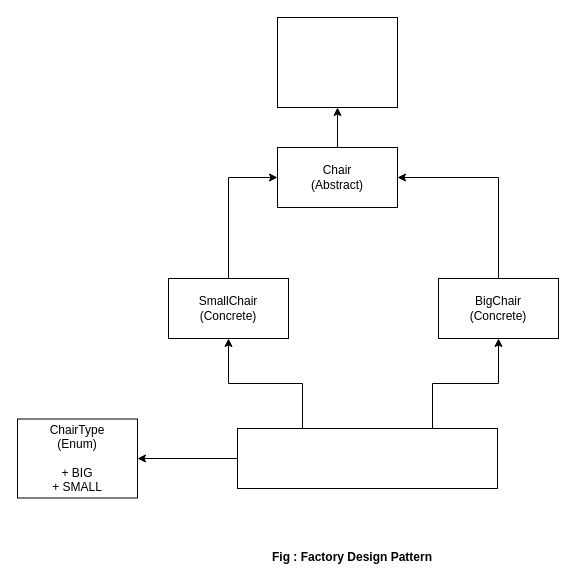
Some shapes in this 585 by 585 pixel diagram are drawn without their labels. The shapes that lost their labels are listed below. From the top down, each one's centre as x and y in pixels, then its label:
point 337,62: ChairI (Interface) + get_dimension()
point 367,458: ChairFactory + get_chair(chair_type: ChairType) : Chair
